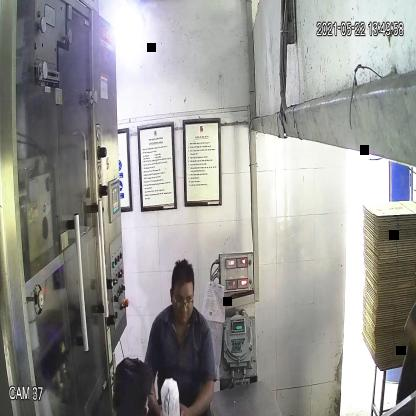goggles: (167, 288, 195, 312)
